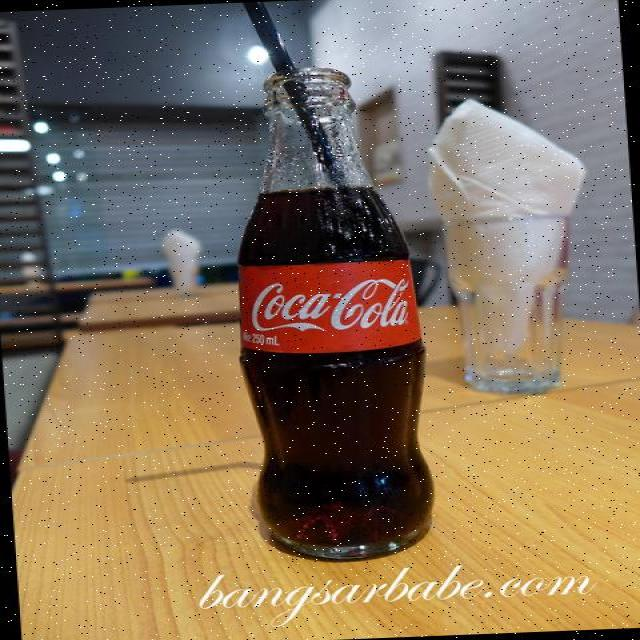coca-cola: (196, 38, 460, 569)
